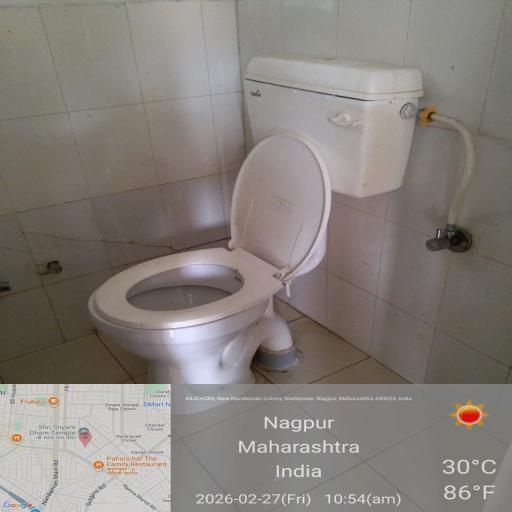clean_floor: (26, 347, 512, 512), (21, 26, 240, 228)
clean_western: (108, 147, 359, 418)
